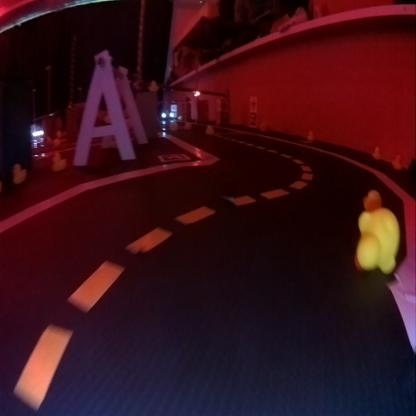Duckie: (356, 203, 398, 273), (51, 152, 65, 169), (13, 164, 25, 183), (392, 153, 402, 169), (372, 146, 380, 156), (308, 132, 314, 140)
QR code: (160, 152, 188, 160)
